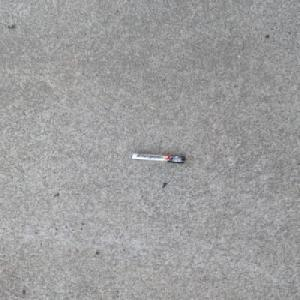Battery: (128, 152, 187, 164)
